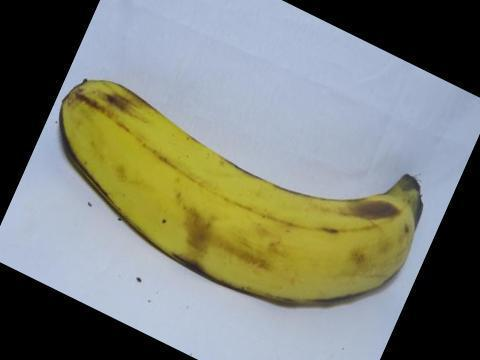ripe: (52, 73, 433, 316)
